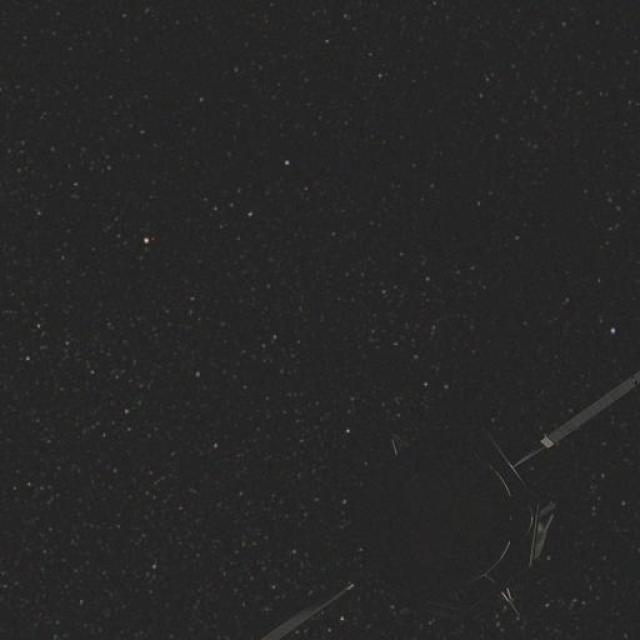xmm_newton: (285, 306, 630, 640)
